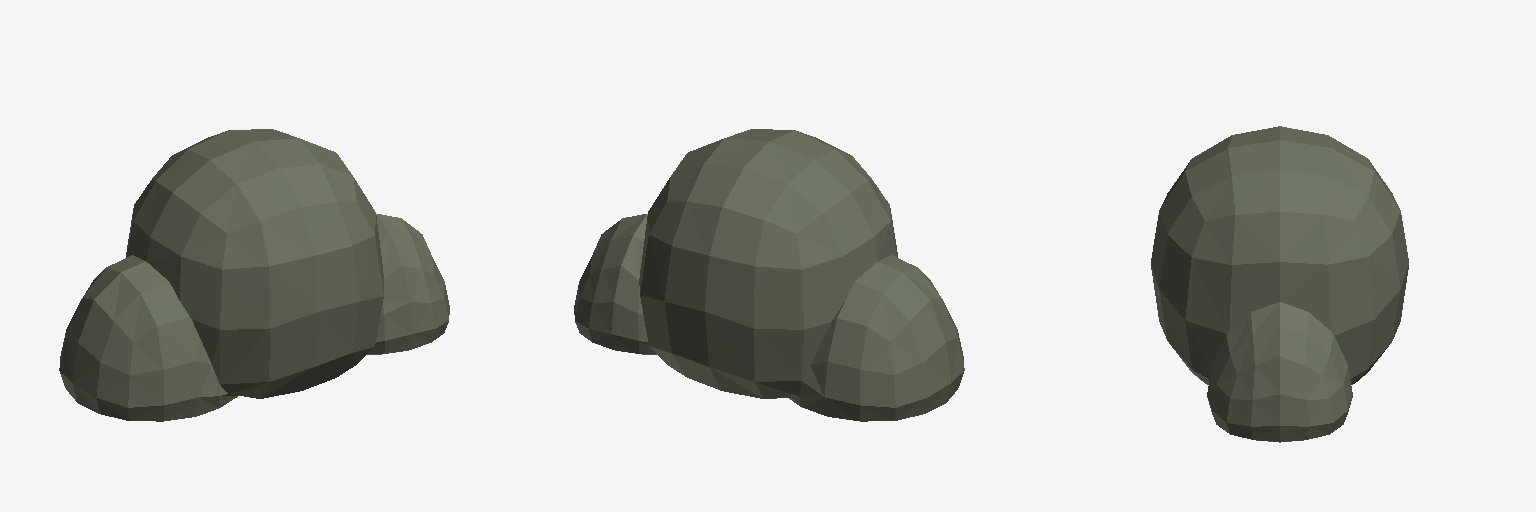
The model's file is Cloud_2.obj.
3 views of the same model, side by side, from view 1: azimuth 30°, elevation 25°; view 2: azimuth 150°, elevation 25°; view 3: azimuth 270°, elevation 25° (orthographic).
Visible parts, largest first — view 1: Cloud_2_Cube.303; view 2: Cloud_2_Cube.303; view 3: Cloud_2_Cube.303.
Boxes of the visible parts, x1,y1,x2,y2 form: Cloud_2_Cube.303: [59, 129, 449, 421]; Cloud_2_Cube.303: [574, 129, 964, 421]; Cloud_2_Cube.303: [1151, 126, 1408, 442].
Size of the model in its own units: 4.01 by 2.4 by 2.45.